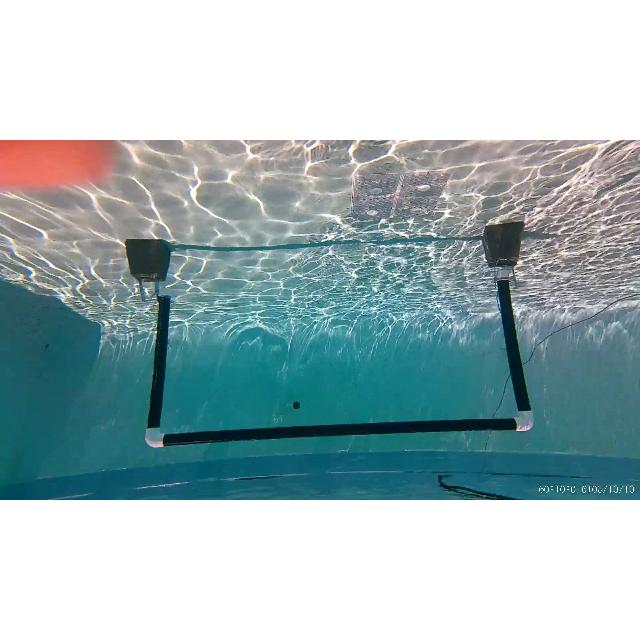prequal gate: (146, 266, 536, 449)
prequal gate leg l: (483, 227, 533, 421)
prequal gate leg r: (134, 250, 172, 440)
